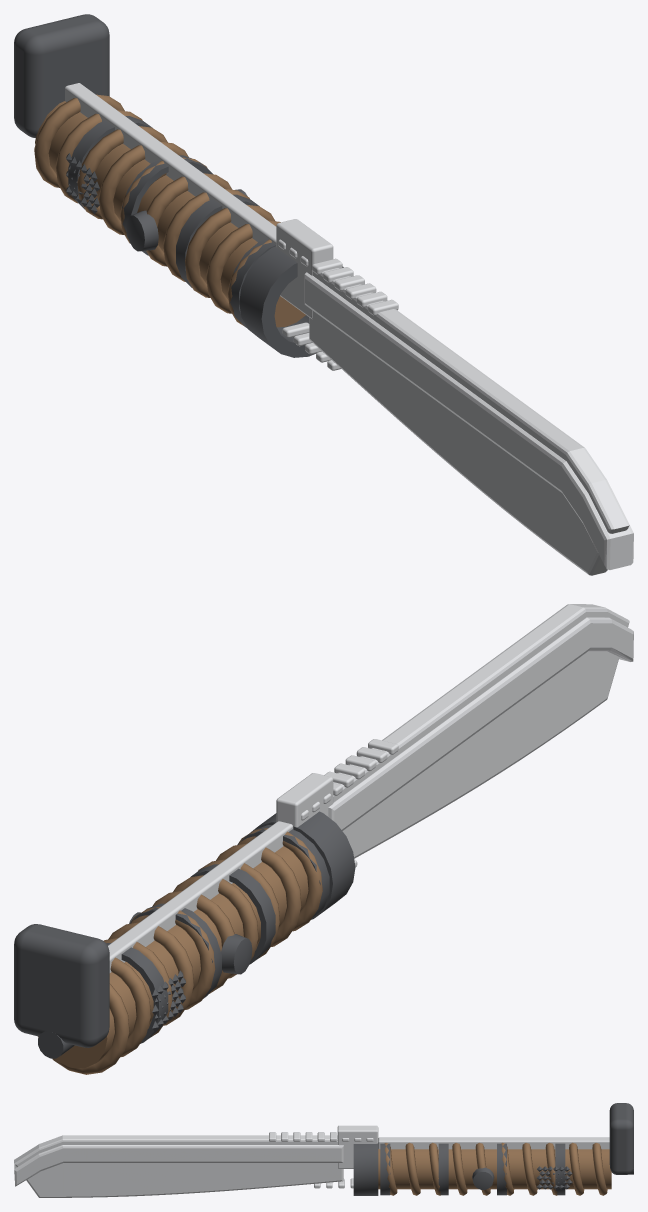
Rendered from mega-weapon-pack-tanto-knife-31a6da03__33399.glb.
The picture shows the model from 3 angles, top to bottom: view 1: azimuth 30°, elevation 25°; view 2: azimuth 150°, elevation 25°; view 3: azimuth 270°, elevation 25°; orthographic projection. The views are drawn at different scales.
Visible parts, largest first — view 1: tanto-knife; view 2: tanto-knife; view 3: tanto-knife.
Boxes of the visible parts, <box> form: tanto-knife: <box>14,14,633,575</box>; tanto-knife: <box>14,604,633,1074</box>; tanto-knife: <box>14,1103,633,1197</box>.
Size of the model in its own units: 0.0352 by 0.046 by 0.3054.
